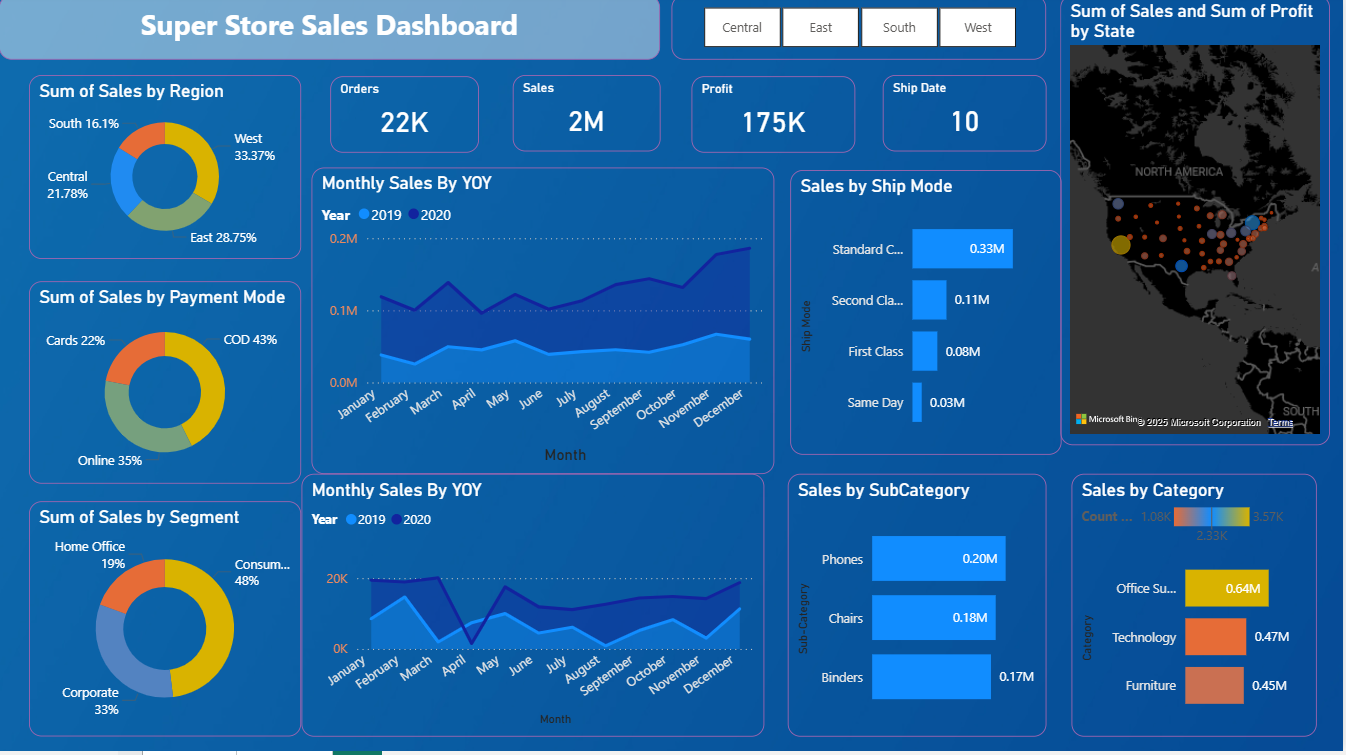

What the dashboard file says about the page in this screenshot:
{"tool":"powerbi","page":{"name":"Page 1","canvas":[1280,720],"ordinal":0},"visuals":[{"type":"clusteredBarChart","title":" Sales by Category","fields":{"Category":["SuperStore_Sales_Dataset.Category"],"Y":["Sum(SuperStore_Sales_Dataset.Sales)"]},"box":[1021.4,456,233.3,250],"z":0},{"type":"clusteredBarChart","title":" Sales by SubCategory","fields":{"Category":["SuperStore_Sales_Dataset.Sub-Category"],"Y":["Sum(SuperStore_Sales_Dataset.Sales)"]},"box":[751.2,456,246.4,250],"z":1000},{"type":"clusteredBarChart","title":" Sales by Ship Mode","fields":{"Category":["SuperStore_Sales_Dataset.Ship Mode"],"Y":["Sum(SuperStore_Sales_Dataset.Sales)"]},"box":[753.6,166.7,258.3,271.4],"z":2000},{"type":"stackedAreaChart","title":"Monthly Sales By YOY","fields":{"Y":["Sum(SuperStore_Sales_Dataset.Sales)"],"Category":["SuperStore_Sales_Dataset.Order Date.Variation.Date Hierarchy.Month","SuperStore_Sales_Dataset.Order Date.Variation.Date Hierarchy.Day"],"Series":["SuperStore_Sales_Dataset.Order Date.Variation.Date Hierarchy.Year"]},"box":[297.6,164.3,440.5,291.7],"z":3000},{"type":"stackedAreaChart","title":"Monthly Sales By YOY","fields":{"Category":["SuperStore_Sales_Dataset.Order Date.Variation.Date Hierarchy.Month","SuperStore_Sales_Dataset.Order Date.Variation.Date Hierarchy.Day"],"Series":["SuperStore_Sales_Dataset.Order Date.Variation.Date Hierarchy.Year"],"Y":["Sum(SuperStore_Sales_Dataset.Profit)"]},"box":[288.1,456,440.5,250],"z":4000},{"type":"map","fields":{"Category":["SuperStore_Sales_Dataset.State"],"Size":["Sum(SuperStore_Sales_Dataset.Sales)"]},"box":[1010.7,0,257.1,428.6],"z":5000},{"type":"donutChart","fields":{"Y":["Sum(SuperStore_Sales_Dataset.Sales)"],"Category":["SuperStore_Sales_Dataset.Payment Mode"]},"box":[28.6,272.6,259.5,192.9],"z":6000},{"type":"donutChart","fields":{"Category":["SuperStore_Sales_Dataset.Segment"],"Y":["Sum(SuperStore_Sales_Dataset.Sales)"]},"box":[28.6,482.1,259.5,223.8],"z":7000},{"type":"slicer","fields":{"Values":["SuperStore_Sales_Dataset.Region"]},"box":[640.5,0,357.1,61.9],"z":8000},{"type":"textbox","box":[0,0,629.8,61.9],"z":9000},{"type":"card","title":"Sales","fields":{"Values":["Sum(SuperStore_Sales_Dataset.Sales)"]},"box":[489.3,76.2,140.5,72.6],"z":10000},{"type":"card","title":"Profit","fields":{"Values":["Sum(SuperStore_Sales_Dataset.Profit)"]},"box":[659.5,77.4,156,72.6],"z":11000},{"type":"card","title":"Ship Date","fields":{"Values":["Avg(SuperStore_Sales_Dataset.AvgDelivery)"]},"box":[841.7,76.2,156,72.6],"z":12000},{"type":"card","title":"Orders","fields":{"Values":["Sum(SuperStore_Sales_Dataset.Quantity)"]},"box":[315.5,77.4,141.7,72.6],"z":13000},{"type":"donutChart","fields":{"Category":["SuperStore_Sales_Dataset.Region"],"Y":["Sum(SuperStore_Sales_Dataset.Sales)"]},"box":[28.6,76.2,259.5,175],"z":14000}]}

Visuals, with their boxes in screenshot pixels (x1, y1, x2, y2), scaled from the page's 1280x720 canvas onto the 1346x755 screenshot:
" Sales by Category" clusteredBarChart: 1074, 478, 1319, 740
" Sales by SubCategory" clusteredBarChart: 790, 478, 1049, 740
" Sales by Ship Mode" clusteredBarChart: 792, 175, 1064, 459
"Monthly Sales By YOY" stackedAreaChart: 313, 172, 776, 478
"Monthly Sales By YOY" stackedAreaChart: 303, 478, 766, 740
map - SuperStore_Sales_Dataset.State x Sum(SuperStore_Sales_Dataset.Sales): 1063, 0, 1333, 449
donutChart - Sum(SuperStore_Sales_Dataset.Sales) x SuperStore_Sales_Dataset.Payment Mode: 30, 286, 303, 488
donutChart - SuperStore_Sales_Dataset.Segment x Sum(SuperStore_Sales_Dataset.Sales): 30, 506, 303, 740
slicer - SuperStore_Sales_Dataset.Region: 674, 0, 1049, 65
textbox: 0, 0, 662, 65
"Sales" card: 515, 80, 662, 156
"Profit" card: 694, 81, 858, 157
"Ship Date" card: 885, 80, 1049, 156
"Orders" card: 332, 81, 481, 157
donutChart - SuperStore_Sales_Dataset.Region x Sum(SuperStore_Sales_Dataset.Sales): 30, 80, 303, 263
